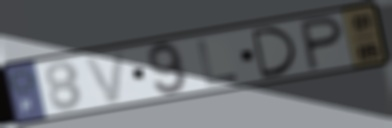8: (43, 58, 86, 114)
9: (147, 40, 190, 98)
D: (248, 25, 300, 80)
L: (194, 38, 241, 87)
P: (298, 15, 346, 74)
V: (81, 49, 128, 106)
